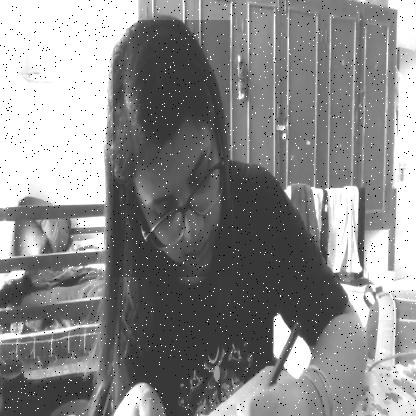Distracted: (113, 20, 232, 277)
